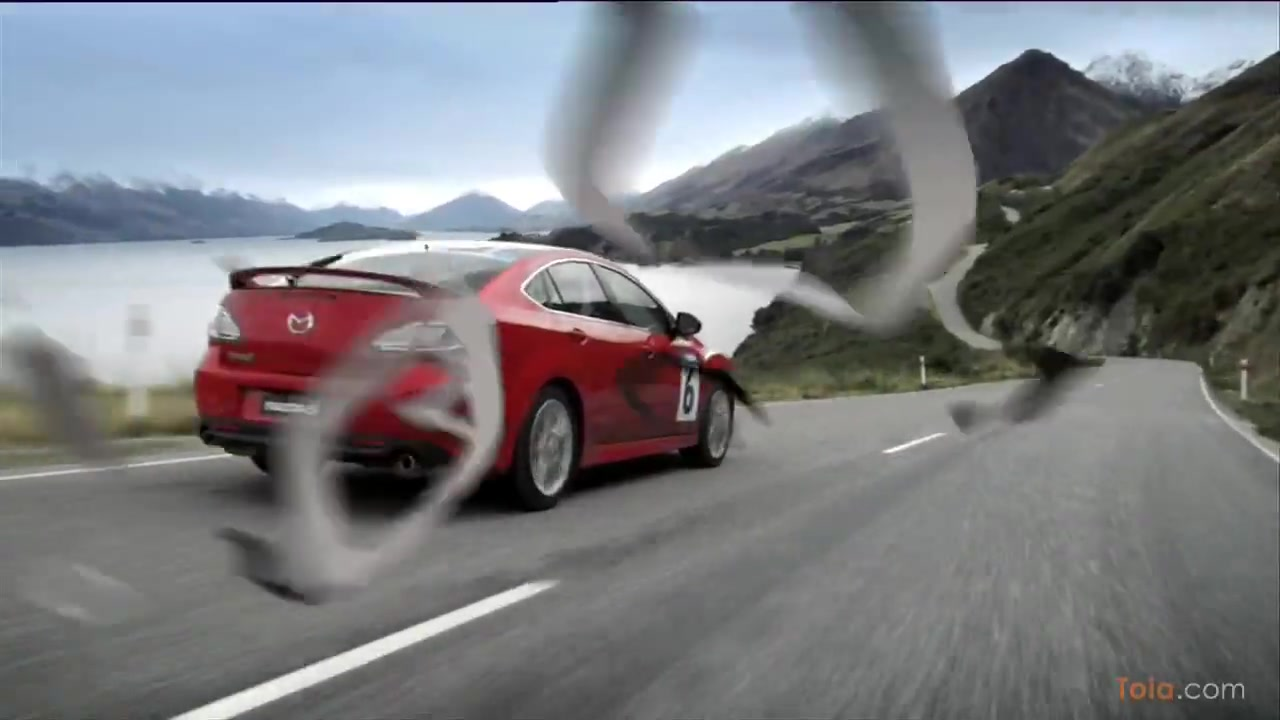car: (194, 236, 745, 511)
